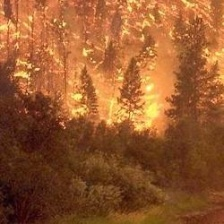fire: (1, 1, 224, 131)
